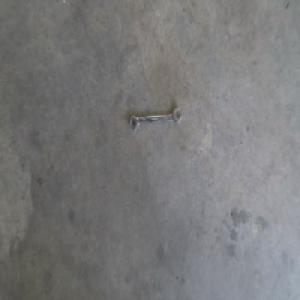Wrench: (126, 106, 184, 133)
